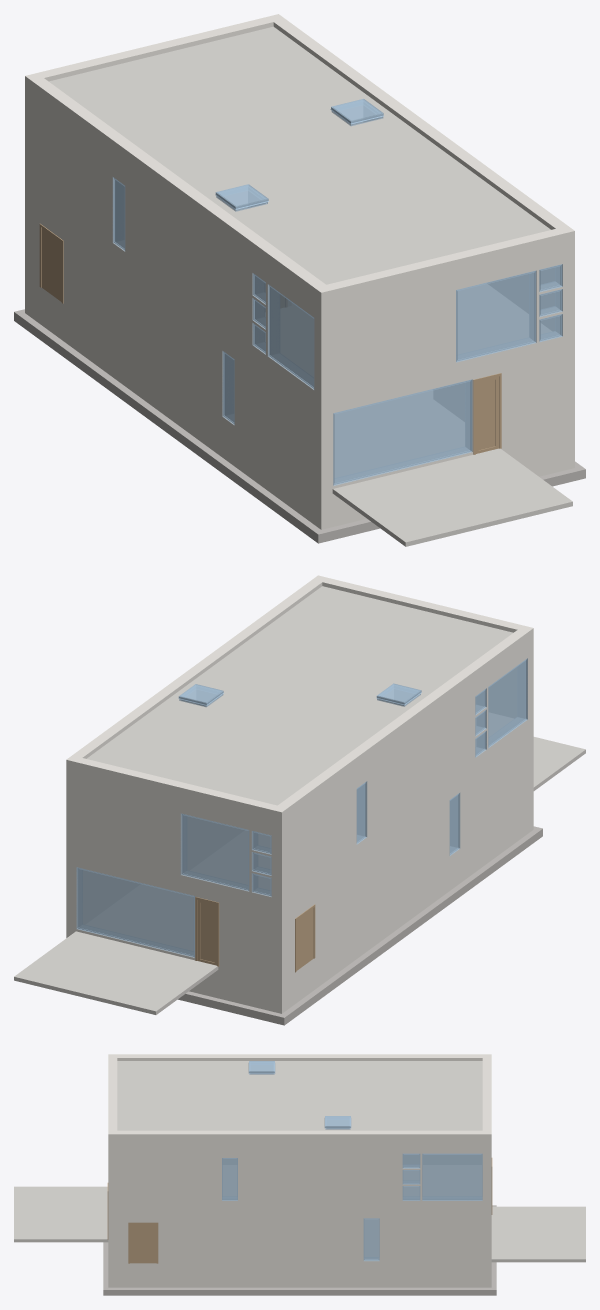
Rendered from duplex.glb.
3 renders of one model, top to bottom at view 1: azimuth 30°, elevation 25°; view 2: azimuth 150°, elevation 25°; view 3: azimuth 270°, elevation 25°, orthographic. The views are drawn at different scales.
Parts seen in each view (by area): view 1: IfcWallStandardCase, IfcSlab, IfcWindow, IfcFooting, IfcDoor; view 2: IfcWallStandardCase, IfcSlab, IfcWindow, IfcFooting, IfcDoor, IfcWall; view 3: IfcWallStandardCase, IfcSlab, IfcWindow, IfcFooting, IfcDoor, IfcWall.
Part boxes in pixels (left/top/right/bottom): IfcWallStandardCase: left=25, top=14, right=574, bottom=529; IfcSlab: left=49, top=26, right=572, bottom=546; IfcWindow: left=112, top=98, right=562, bottom=485; IfcFooting: left=14, top=309, right=585, bottom=543; IfcDoor: left=39, top=223, right=501, bottom=454; IfcWallStandardCase: left=66, top=575, right=533, bottom=1013; IfcSlab: left=14, top=586, right=585, bottom=1014; IfcWindow: left=76, top=658, right=527, bottom=957; IfcFooting: left=178, top=826, right=542, bottom=1025; IfcDoor: left=195, top=897, right=315, bottom=972; IfcWall: left=188, top=817, right=243, bottom=869; IfcWallStandardCase: left=108, top=1054, right=491, bottom=1287; IfcSlab: left=14, top=1061, right=585, bottom=1262; IfcWindow: left=222, top=1061, right=482, bottom=1261; IfcFooting: left=103, top=1205, right=496, bottom=1295; IfcDoor: left=107, top=1158, right=492, bottom=1263; IfcWall: left=223, top=1155, right=481, bottom=1164.
Size of the model in its own units: 9.28 by 8.18 by 26.57.
